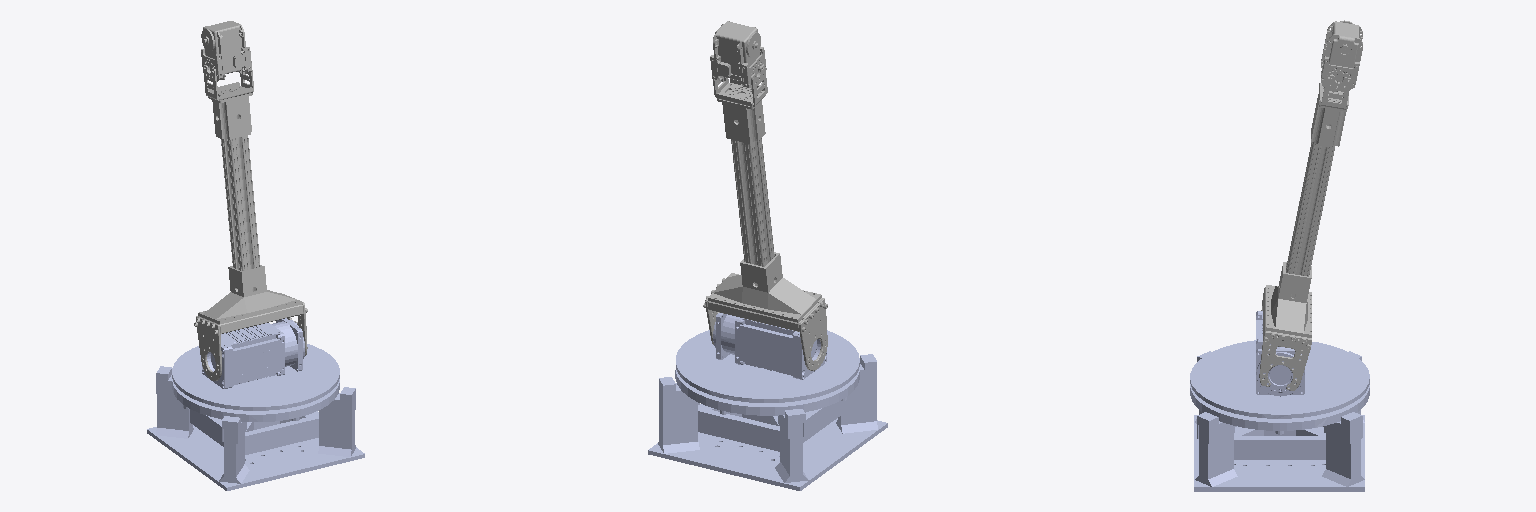
robot.urdf — Robotic_Arm:
<?xml version="1.0" encoding="utf-8"?>
<!-- This URDF was automatically created by SolidWorks to URDF Exporter! Originally created by [author] ([email redacted]) 
     Commit Version: 1.5.0-0-g9aa0fdb  Build Version: 1.5.7004.21443
     For more information, please see http://wiki.ros.org/sw_urdf_exporter -->
<robot
  name="Robotic_Arm">
  <link
    name="base_link">
    <inertial>
      <origin
        xyz="0.077471 -0.13294 0.11201"
        rpy="0 0 0" />
      <mass
        value="0.74796" />
      <inertia
        ixx="0.0022573"
        ixy="2.2339E-07"
        ixz="-8.1079E-08"
        iyy="0.0022579"
        iyz="-1.057E-07"
        izz="0.0039789" />
    </inertial>
    <visual>
      <origin
        xyz="0 0 0"
        rpy="0 0 0" />
      <geometry>
        <mesh
          filename="package://Robotic_Arm/meshes/base_link.STL" />
      </geometry>
      <material
        name="">
        <color
          rgba="0.79216 0.81961 0.93333 1" />
      </material>
    </visual>
    <collision>
      <origin
        xyz="0 0 0"
        rpy="0 0 0" />
      <geometry>
        <mesh
          filename="package://Robotic_Arm/meshes/base_link.STL" />
      </geometry>
    </collision>
  </link>
  <link
    name="arm_link_1">
    <inertial>
      <origin
        xyz="-0.0023986 0.021961 -0.00036542"
        rpy="0 0 0" />
      <mass
        value="0.44911" />
      <inertia
        ixx="0.00052376"
        ixy="1.1533E-09"
        ixz="-4.7849E-08"
        iyy="0.0011151"
        iyz="2.7992E-10"
        izz="0.00072274" />
    </inertial>
    <visual>
      <origin
        xyz="0 0 0"
        rpy="0 0 0" />
      <geometry>
        <mesh
          filename="package://Robotic_Arm/meshes/arm_link_1.STL" />
      </geometry>
      <material
        name="">
        <color
          rgba="0.79216 0.81961 0.93333 1" />
      </material>
    </visual>
    <collision>
      <origin
        xyz="0 0 0"
        rpy="0 0 0" />
      <geometry>
        <mesh
          filename="package://Robotic_Arm/meshes/arm_link_1.STL" />
      </geometry>
    </collision>
  </link>
  <joint
    name="arm_joint_1"
    type="continuous">
    <origin
      xyz="0.077663 -0.13275 0.16758"
      rpy="1.5708 0 0" />
    <parent
      link="base_link" />
    <child
      link="arm_link_1" />
    <axis
      xyz="0 1 0" />
    <limit
      lower="0"
      upper="3.14"
      effort="0"
      velocity="0" />
    <safety_controller
      k_velocity="0" />
  </joint>
  <link
    name="arm_link_2">
    <inertial>
      <origin
        xyz="-0.000500576888321891 0.192519116267857 -0.000265676079625202"
        rpy="0 0 0" />
      <mass
        value="0.421933647074247" />
      <inertia
        ixx="0.00119101878063656"
        ixy="-9.38571195847433E-08"
        ixz="-3.61118369829338E-07"
        iyy="0.000165865664319786"
        iyz="-8.58458961831791E-07"
        izz="0.00112242532449343" />
    </inertial>
    <visual>
      <origin
        xyz="0 0 0"
        rpy="0 0 0" />
      <geometry>
        <mesh
          filename="package://Robotic_Arm/meshes/arm_link_2.STL" />
      </geometry>
      <material
        name="">
        <color
          rgba="0.752941176470588 0.752941176470588 0.752941176470588 1" />
      </material>
    </visual>
    <collision>
      <origin
        xyz="0 0 0"
        rpy="0 0 0" />
      <geometry>
        <mesh
          filename="package://Robotic_Arm/meshes/arm_link_2.STL" />
      </geometry>
    </collision>
  </link>
  <joint
    name="arm_joint_2"
    type="continuous">
    <origin
      xyz="-0.0023104 0.032 -0.00054816"
      rpy="-1.5708 -1.3894 1.5708" />
    <parent
      link="arm_link_1" />
    <child
      link="arm_link_2" />
    <axis
      xyz="0 0 1" />
    <safety_controller
      k_velocity="0" />
  </joint>
</robot>

--- What the picture shows (computed from the rendered views, not written in the file) ---
Views: 3 orthographic renders of the robot side by side, from view 1: azimuth 30°, elevation 25°; view 2: azimuth 150°, elevation 25°; view 3: azimuth 270°, elevation 25°.
Model Robotic_Arm with 3 links and 2 joints (2 continuous), rooted at base_link, posed all joints at 0.
Links seen in each view (by area): view 1: base_link, arm_link_2, arm_link_1; view 2: base_link, arm_link_2, arm_link_1; view 3: base_link, arm_link_2, arm_link_1.
Boxes of the visible links, x1=… form: base_link: x1=147, y1=366, x2=364, y2=490; arm_link_2: x1=194, y1=21, x2=307, y2=380; arm_link_1: x1=172, y1=318, x2=339, y2=410; base_link: x1=648, y1=354, x2=887, y2=490; arm_link_2: x1=703, y1=21, x2=827, y2=370; arm_link_1: x1=676, y1=313, x2=859, y2=402; base_link: x1=1190, y1=351, x2=1369, y2=491; arm_link_2: x1=1259, y1=20, x2=1362, y2=390; arm_link_1: x1=1190, y1=311, x2=1369, y2=418.
Size in the robot's own frame: 0.2 by 0.2 by 0.5232 metres.
3 mesh visuals loaded from 3 distinct referenced files (3 binary STL).